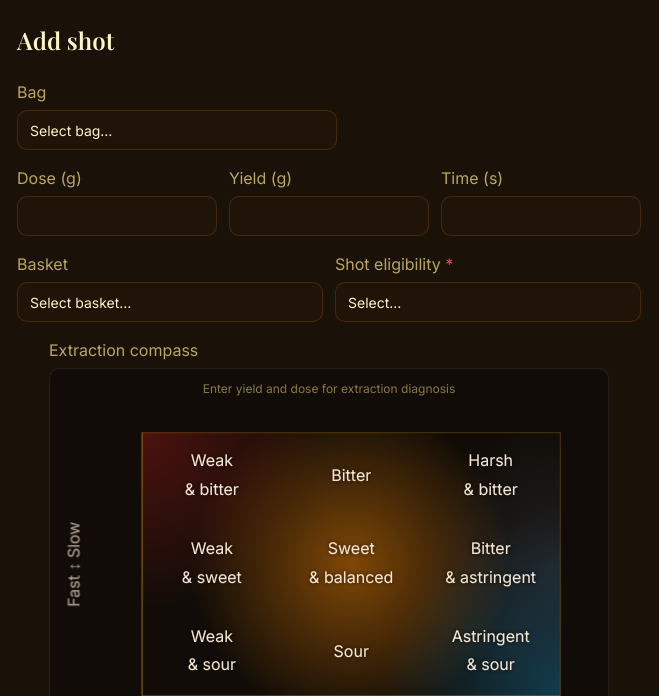
Test: BrewLogAdd › advanced section auto-expands when defaults include grind_setting
This screenshot has width=659, height=696.
# Select a bag to trigger defaults query
Select "Blue Bottle — Kenya Kiambu" in the dropdown labelled "Bag" at (177, 130), box top-left (17, 110), bottom-right (337, 150)
(page scrolled)
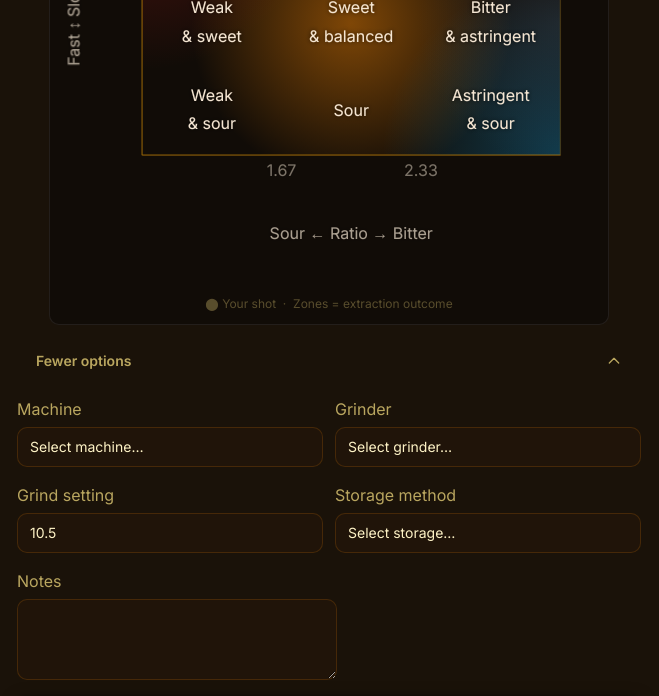
Result: the button "Fewer options" is expanded at top-left (17, 341), bottom-right (641, 381)
